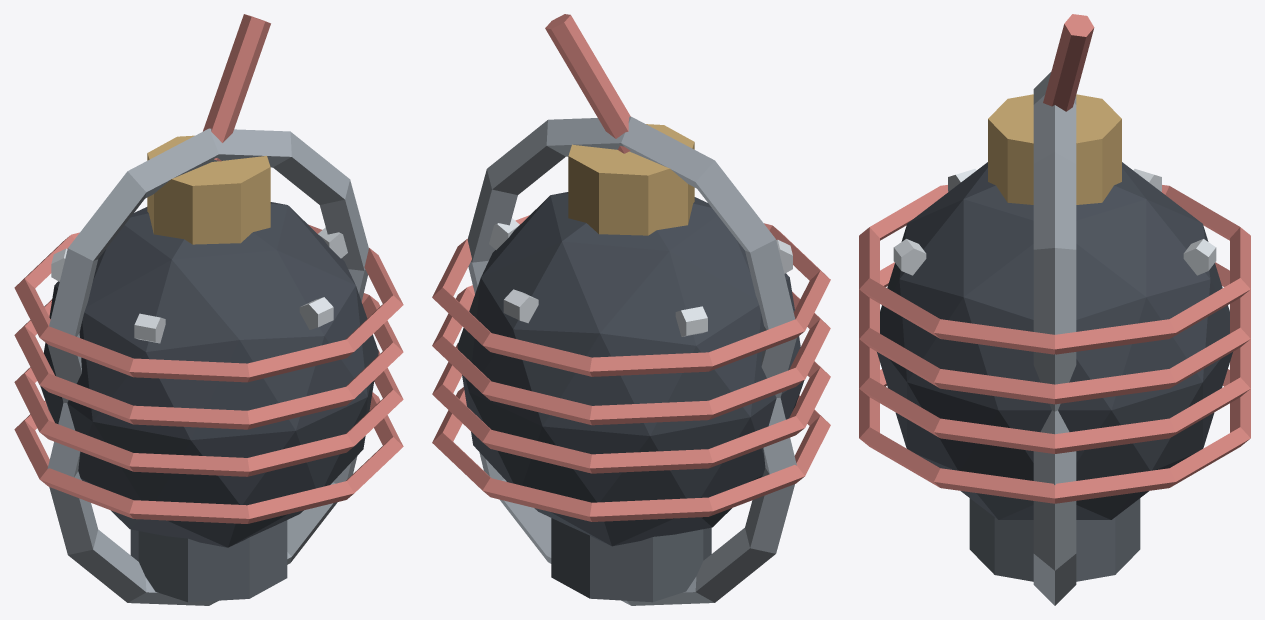
The model's file is smoke_bomb.glb.
3 renders of one model, left to right at view 1: azimuth 30°, elevation 25°; view 2: azimuth 150°, elevation 25°; view 3: azimuth 270°, elevation 25°, orthographic. The views are drawn at different scales.
Parts seen in each view (by area): view 1: CeramicShell, UpperBand, GripWrap_3.022, FuseSocket, ImpactCap, GripWrap_2.022, GripWrap_0.022, GripWrap_1.022, LowerBand, Fuse, Vent_4, Vent_3; view 2: CeramicShell, UpperBand, GripWrap_3.022, FuseSocket, GripWrap_2.022, ImpactCap, GripWrap_0.022, GripWrap_1.022, LowerBand, Fuse, Vent_1, Vent_2; view 3: CeramicShell, GripWrap_3.022, UpperBand, GripWrap_2.022, GripWrap_0.022, GripWrap_1.022, FuseSocket, ImpactCap, LowerBand, Fuse, Vent_1, Vent_4.
Boxes of the visible parts, x1=… form: CeramicShell: x1=40, y1=202, x2=378, y2=547; UpperBand: x1=47, y1=128, x2=368, y2=402; GripWrap_3.022: x1=14, y1=224, x2=403, y2=382; FuseSocket: x1=147, y1=135, x2=270, y2=244; ImpactCap: x1=130, y1=520, x2=287, y2=602; GripWrap_2.022: x1=14, y1=293, x2=403, y2=429; GripWrap_0.022: x1=14, y1=392, x2=403, y2=523; GripWrap_1.022: x1=14, y1=349, x2=403, y2=476; LowerBand: x1=47, y1=402, x2=357, y2=605; Fuse: x1=203, y1=14, x2=270, y2=161; Vent_4: x1=299, y1=297, x2=333, y2=329; Vent_3: x1=134, y1=313, x2=165, y2=343; CeramicShell: x1=457, y1=192, x2=804, y2=546; UpperBand: x1=467, y1=116, x2=796, y2=397; GripWrap_3.022: x1=432, y1=215, x2=830, y2=376; FuseSocket: x1=568, y1=124, x2=694, y2=235; GripWrap_2.022: x1=432, y1=285, x2=830, y2=425; ImpactCap: x1=551, y1=518, x2=711, y2=602; GripWrap_0.022: x1=432, y1=387, x2=830, y2=521; GripWrap_1.022: x1=432, y1=343, x2=830, y2=473; LowerBand: x1=479, y1=397, x2=796, y2=605; Fuse: x1=545, y1=14, x2=630, y2=153; Vent_1: x1=503, y1=289, x2=538, y2=323; Vent_2: x1=675, y1=306, x2=707, y2=336; CeramicShell: x1=877, y1=162, x2=1232, y2=519; GripWrap_3.022: x1=859, y1=185, x2=1250, y2=354; UpperBand: x1=1033, y1=72, x2=1076, y2=411; GripWrap_2.022: x1=859, y1=262, x2=1250, y2=404; GripWrap_0.022: x1=859, y1=369, x2=1250, y2=503; GripWrap_1.022: x1=859, y1=339, x2=1250, y2=453; FuseSocket: x1=988, y1=94, x2=1121, y2=204; ImpactCap: x1=969, y1=498, x2=1140, y2=581; LowerBand: x1=1033, y1=410, x2=1076, y2=605; Fuse: x1=1043, y1=14, x2=1094, y2=111; Vent_1: x1=1183, y1=239, x2=1216, y2=275; Vent_4: x1=893, y1=239, x2=926, y2=275.
Size of the model in its own units: 0.676 by 1.09 by 0.6429.
